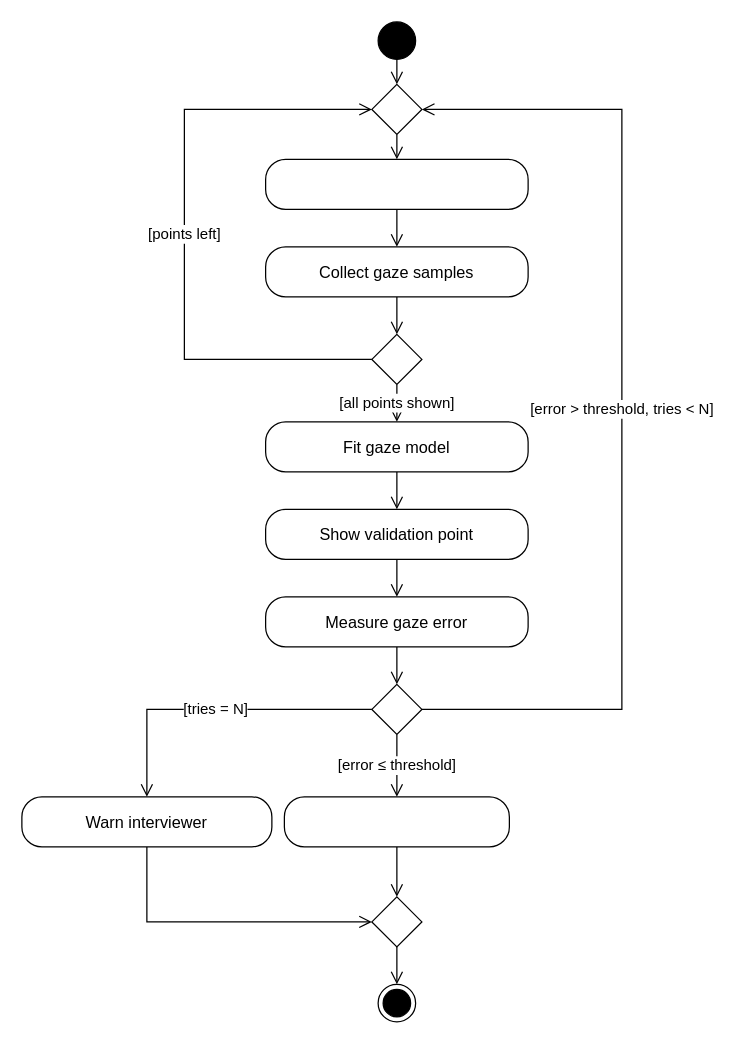
Image size: 735x1044. Some labels were removed from this diagram. Here are the shapes that lost their labels. From the top down, the centre of each, then its label:
point (396, 183): Show next calibration point
point (396, 821): Accept calibration
